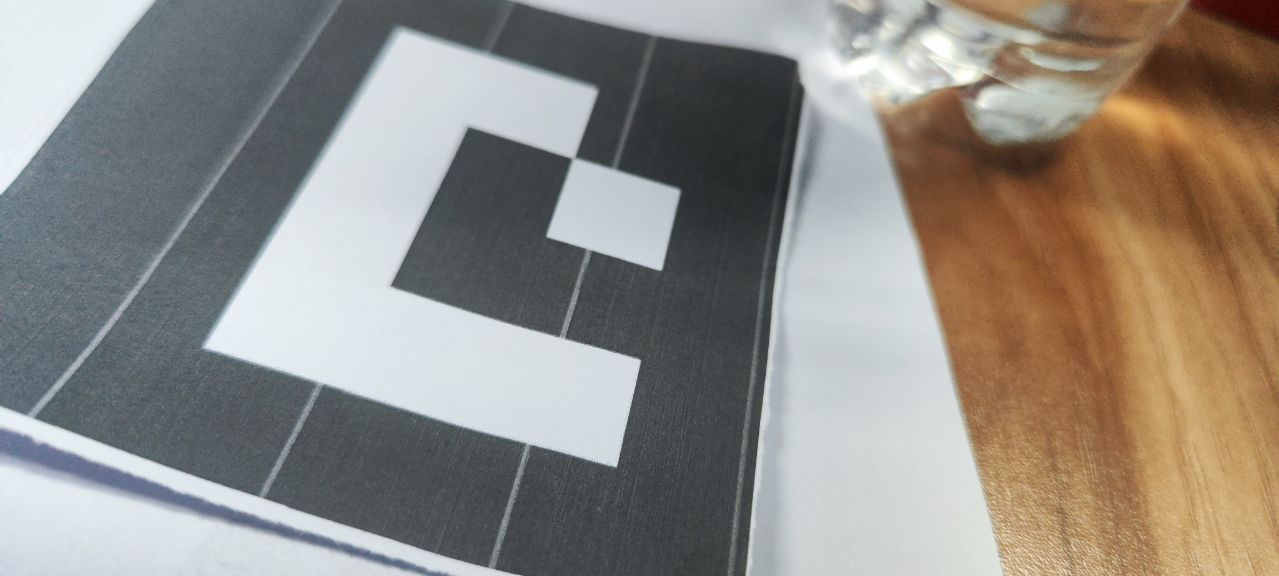mark1: (198, 14, 687, 480)
